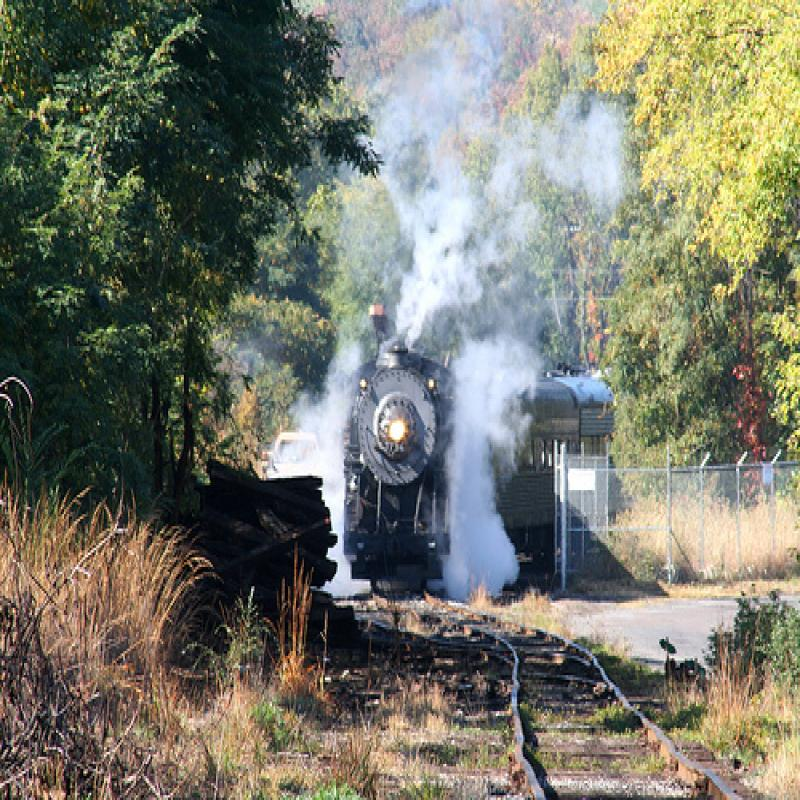train: (347, 342, 635, 604)
